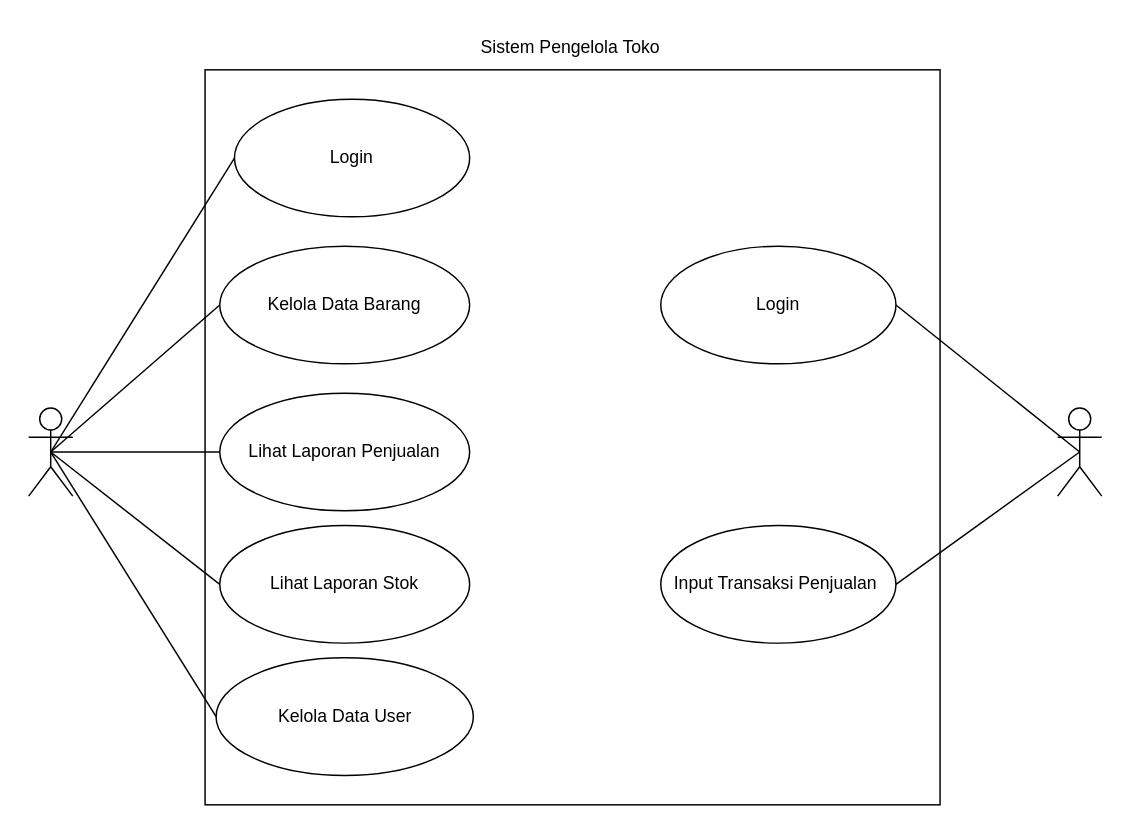
Image size: 1127x831. Some labels were removed from this diagram. The shapes that lost their labels are listed below. From the top down, each one's centre as x and y in pixels, then its label:
(50,451): Admin
(1079,451): Kasir
